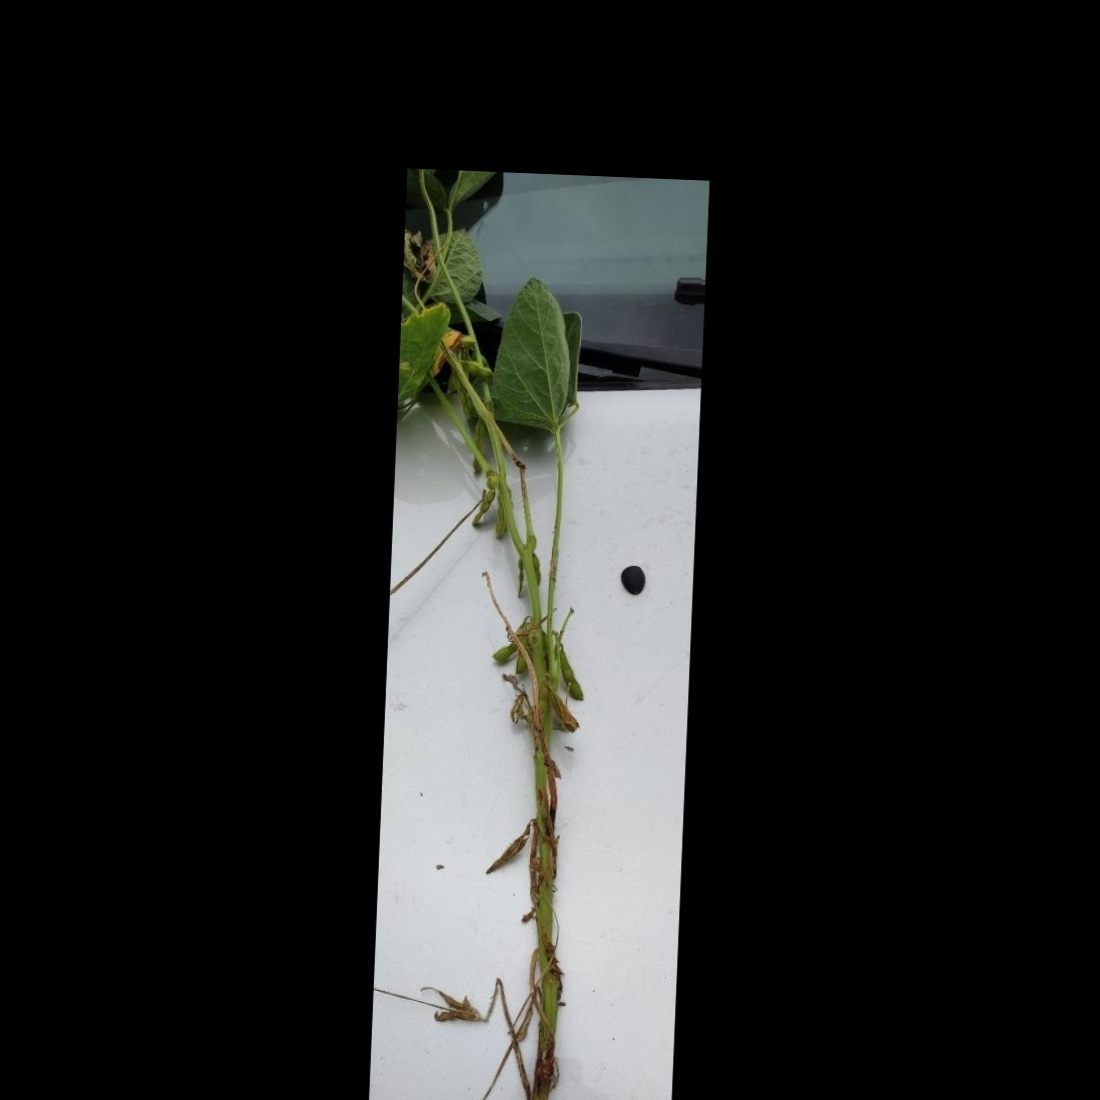pod: (559, 645, 587, 702), (472, 488, 498, 528), (488, 641, 517, 663), (462, 360, 496, 379)
soy: (379, 235, 642, 1100)
